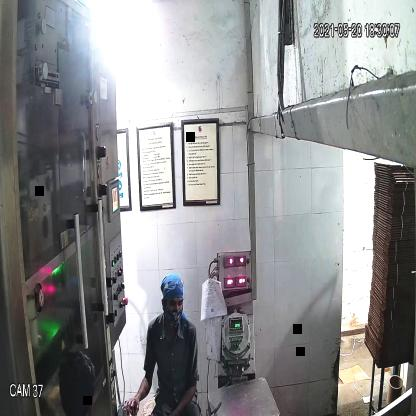no_goggles: (161, 294, 186, 312)
